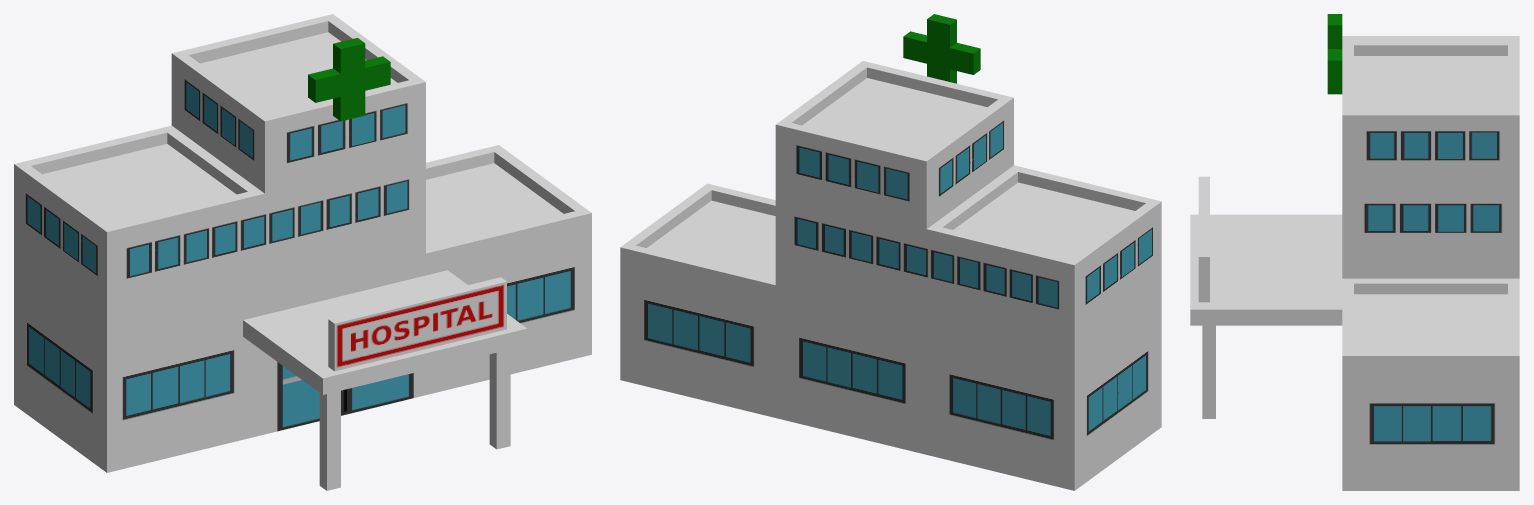
Rendered from hospital.fbx.
3 views of the same model, side by side, from view 1: azimuth 30°, elevation 25°; view 2: azimuth 150°, elevation 25°; view 3: azimuth 270°, elevation 25° (orthographic). The views are drawn at different scales.
Parts seen in each view (by area): view 1: Cube; view 2: Cube; view 3: Cube.
Boxes of the visible parts, x1,y1,x2,y2 form: Cube: (14, 14, 591, 490); Cube: (620, 14, 1161, 490); Cube: (1190, 14, 1519, 490).
Size of the model in its own units: 602 by 444 by 371.
